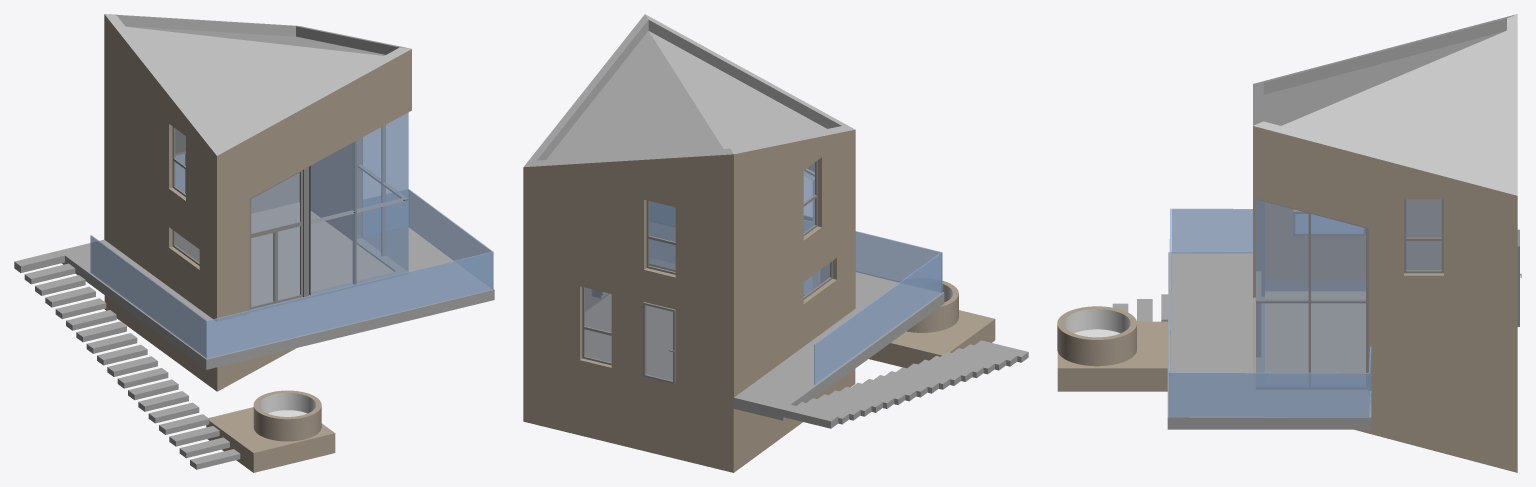
File: House.fbx
3 renders of one model, left to right at view 1: azimuth 30°, elevation 25°; view 2: azimuth 150°, elevation 25°; view 3: azimuth 270°, elevation 25°, orthographic. The views are drawn at different scales.
Visible parts, largest first — view 1: House, polySurface18, polySurface42, polySurface40, polySurface44, polySurface30, polySurface34, Color_M01; view 2: House, polySurface42, polySurface30, polySurface18, polySurface44, polySurface40; view 3: House, polySurface18, polySurface42, polySurface34, polySurface44, polySurface30, Color_M01.
Part boxes in pixels (x1,y1,x2,y2): House: (14, 14, 494, 472); polySurface18: (175, 112, 408, 305); polySurface42: (91, 190, 492, 358); polySurface40: (206, 252, 491, 357); polySurface44: (172, 125, 408, 312); polySurface30: (90, 235, 205, 357); polySurface34: (410, 190, 493, 288); Color_M01: (259, 393, 315, 416); House: (523, 14, 1028, 472); polySurface42: (814, 231, 942, 384); polySurface30: (815, 253, 941, 384); polySurface18: (585, 162, 829, 362); polySurface44: (582, 160, 832, 384); polySurface40: (855, 231, 940, 282); House: (1057, 14, 1517, 472); polySurface18: (1256, 199, 1441, 372); polySurface42: (1169, 209, 1368, 416); polySurface34: (1168, 373, 1368, 417); polySurface44: (1256, 199, 1521, 389); polySurface30: (1172, 209, 1252, 252); Color_M01: (1063, 309, 1130, 337).
Size of the model in its own units: 1017 by 890 by 1047.
